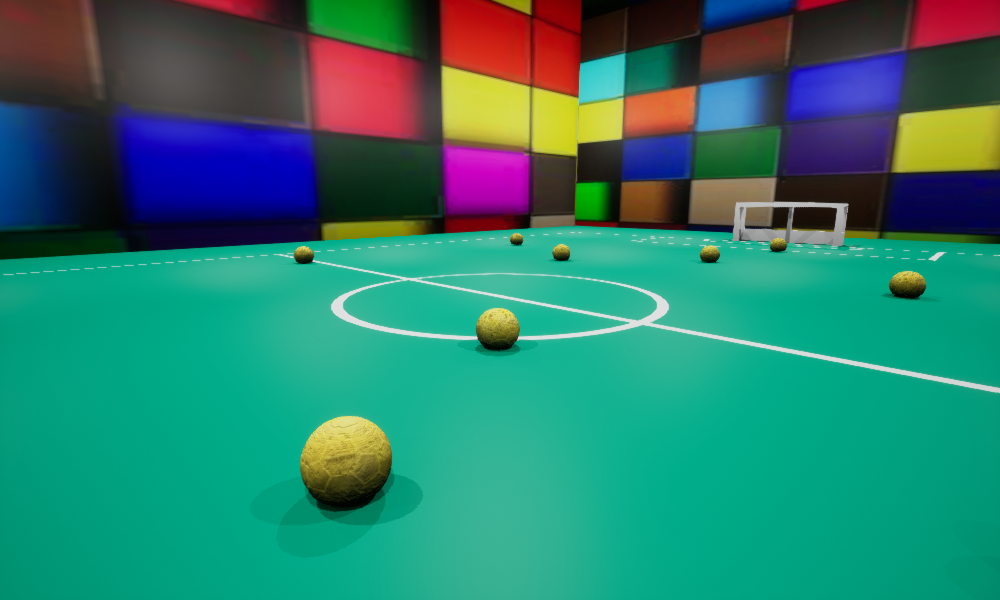b: (300, 416, 391, 507), (476, 308, 519, 349), (889, 271, 925, 296), (294, 246, 313, 263), (700, 245, 719, 262), (552, 244, 569, 260), (770, 238, 786, 250), (510, 233, 522, 244)
g: (732, 202, 848, 245)
